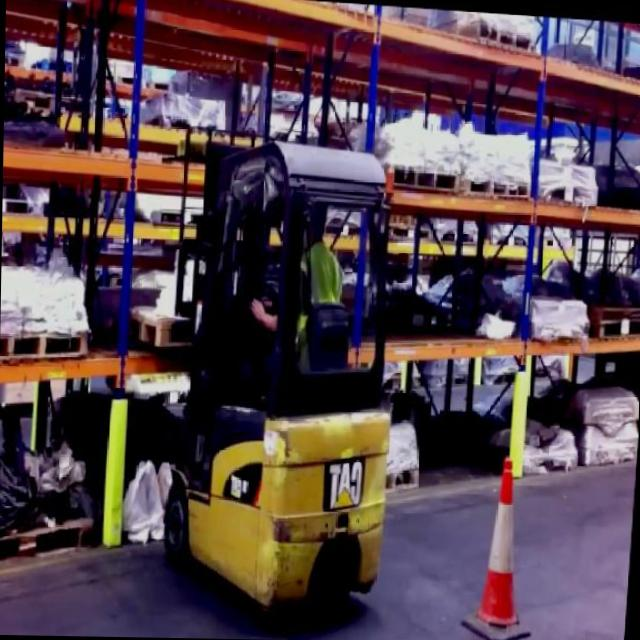driver: (250, 192, 357, 372)
forklift: (146, 125, 423, 640)
